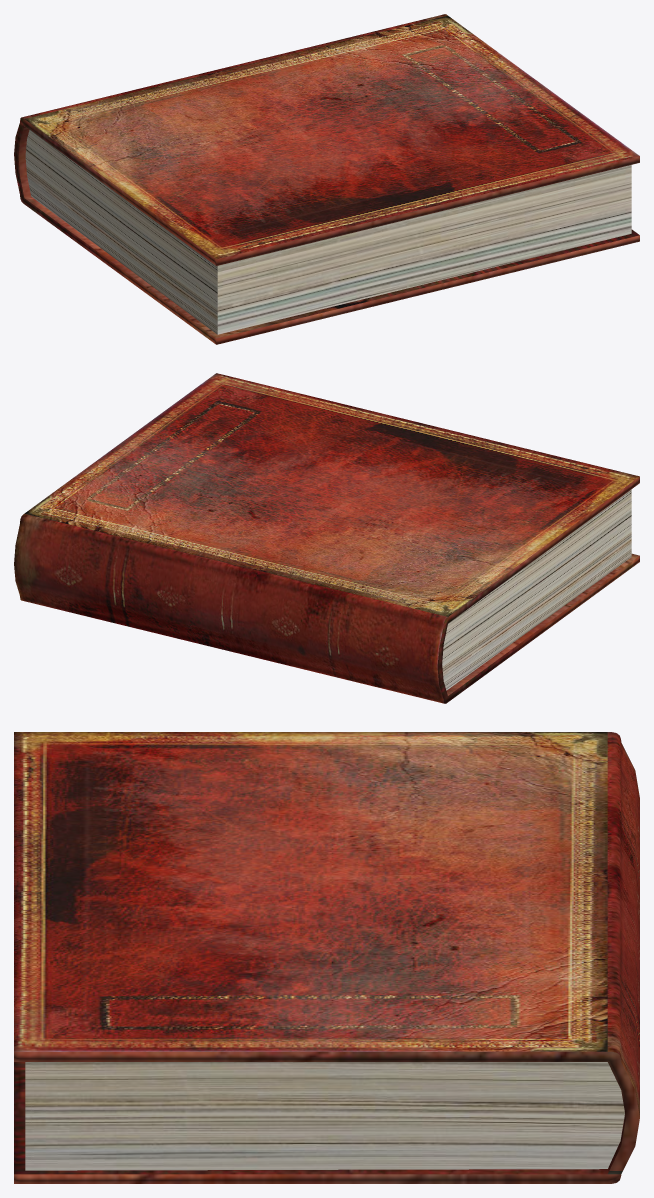
File: book.glb
3 views of the same model, one above another, from view 1: azimuth 30°, elevation 25°; view 2: azimuth 150°, elevation 25°; view 3: azimuth 270°, elevation 25° (orthographic). The views are drawn at different scales.
Visible parts, largest first — view 1: Plane; view 2: Plane; view 3: Plane.
Boxes of the visible parts, bbox=[...] form: Plane: bbox=[14, 14, 639, 344]; Plane: bbox=[14, 373, 639, 703]; Plane: bbox=[14, 732, 639, 1183].
Size of the model in its own units: 2.89 by 0.5577 by 2.39.
Materials: 2 (2 with a texture image).
